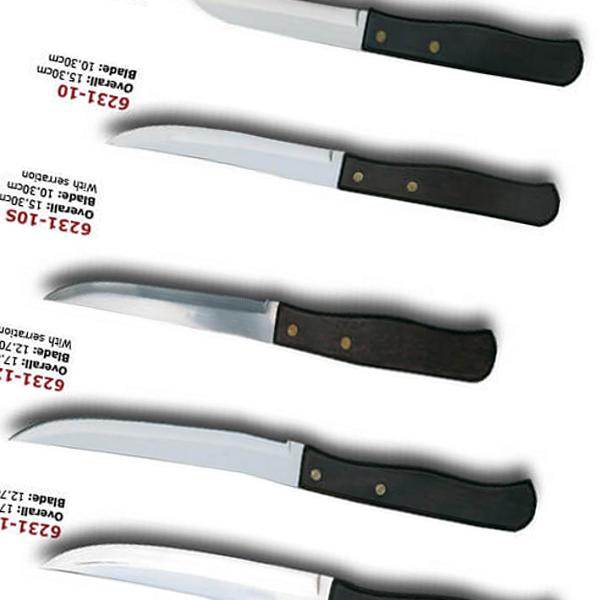knife: (8, 414, 537, 533), (108, 124, 562, 230), (43, 279, 498, 383), (190, 1, 584, 90)
